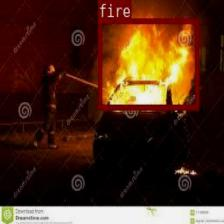fire: (97, 17, 198, 109)
